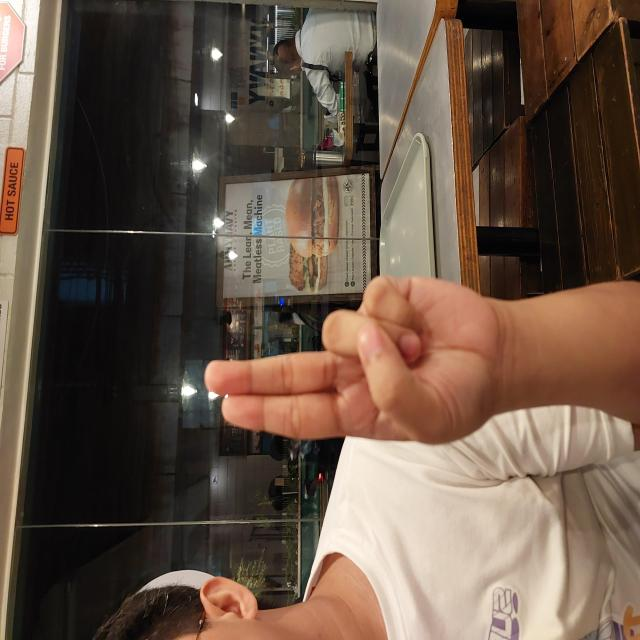U: (193, 203, 369, 505)
